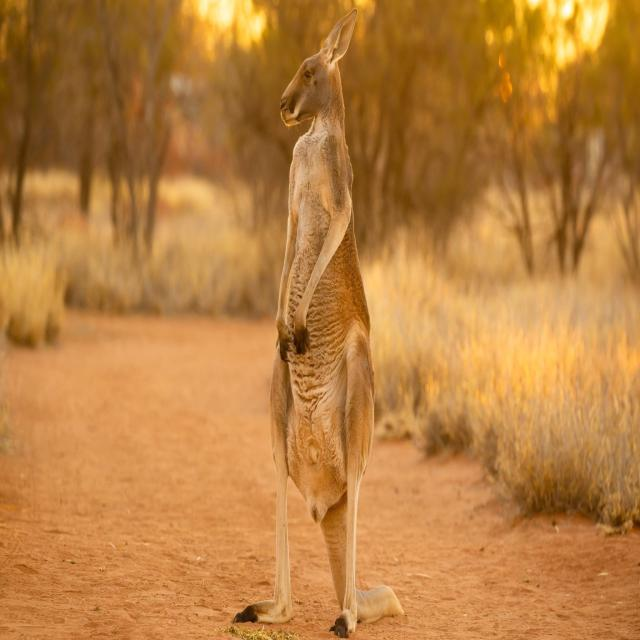Kangaroo: (229, 2, 408, 640)
